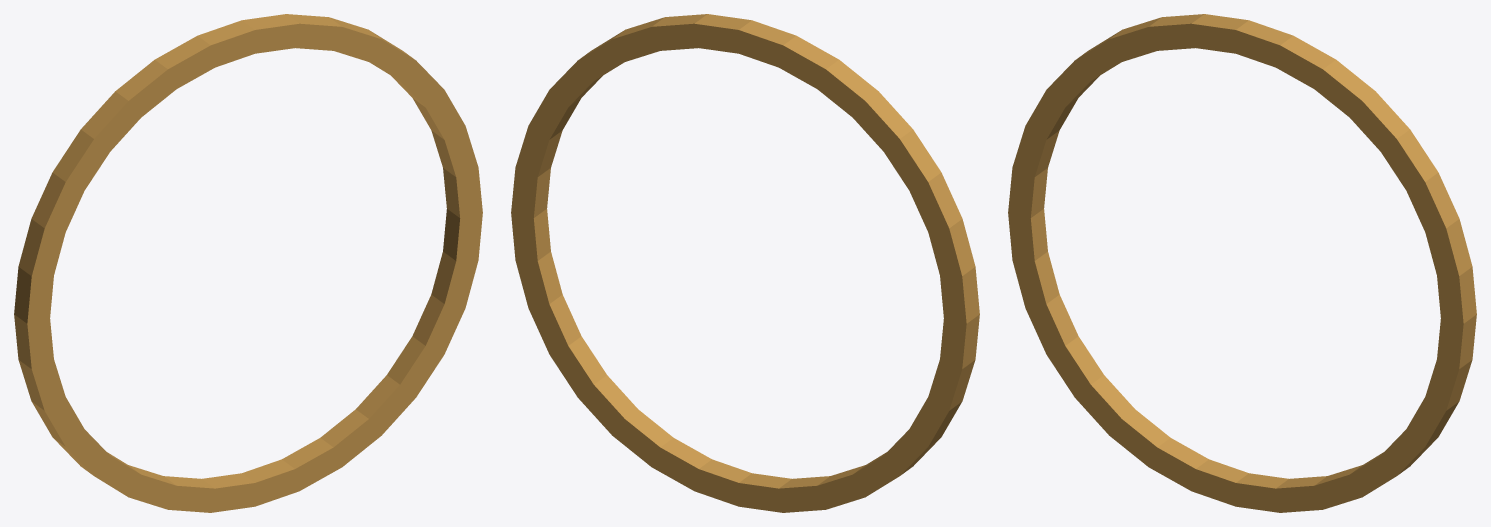
Rendered from ringEar.glb.
3 renders of one model, left to right at view 1: azimuth 30°, elevation 25°; view 2: azimuth 150°, elevation 25°; view 3: azimuth 330°, elevation 25°, orthographic.
Visible parts, largest first — view 1: ringEar; view 2: ringEar; view 3: ringEar.
Boxes of the visible parts, x1=… form: ringEar: x1=14, y1=14, x2=482, y2=512; ringEar: x1=511, y1=14, x2=979, y2=512; ringEar: x1=1008, y1=14, x2=1476, y2=512.
Bounding box in the file's own units: 0.0205 × 0.0205 × 0.00104.
1 material, 1 textured.
